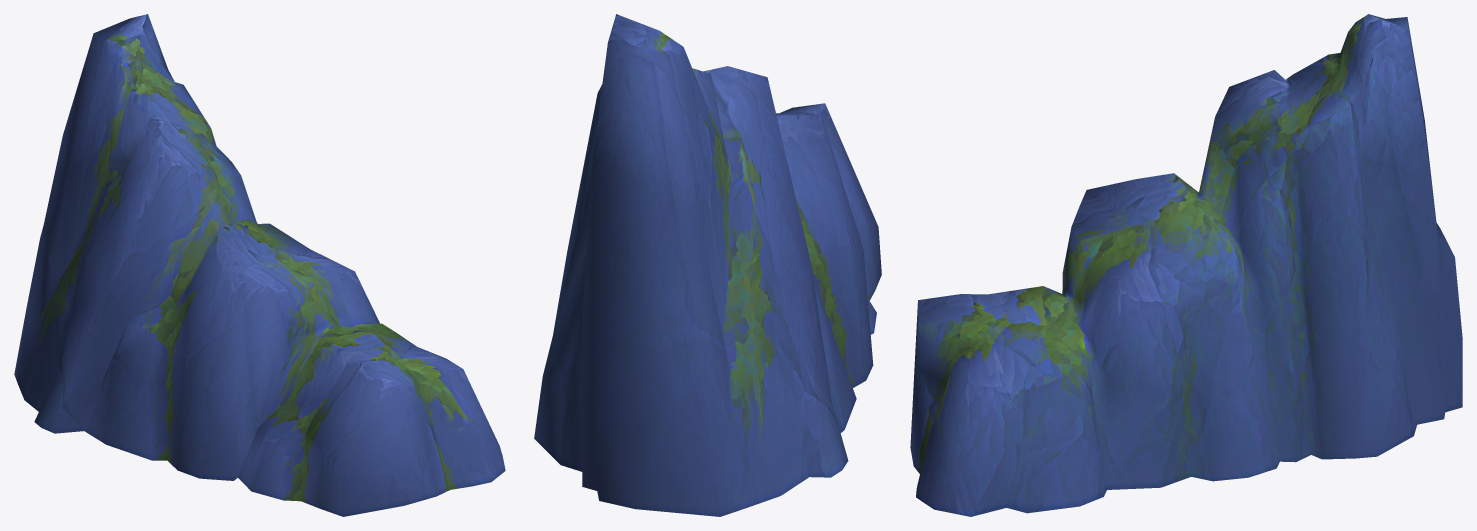
The model's file is rock_wall_a.glb.
The picture shows the model from 3 angles, left to right: view 1: azimuth 30°, elevation 25°; view 2: azimuth 150°, elevation 25°; view 3: azimuth 270°, elevation 25°; orthographic projection. The views are drawn at different scales.
Parts seen in each view (by area): view 1: tripo_node_dbaaecc9-710d-4143-9c2d-17c90e7c155b; view 2: tripo_node_dbaaecc9-710d-4143-9c2d-17c90e7c155b; view 3: tripo_node_dbaaecc9-710d-4143-9c2d-17c90e7c155b.
Part boxes in pixels (box(x1,y1,x2,y2)): tripo_node_dbaaecc9-710d-4143-9c2d-17c90e7c155b: box(14, 14, 505, 516); tripo_node_dbaaecc9-710d-4143-9c2d-17c90e7c155b: box(534, 14, 881, 516); tripo_node_dbaaecc9-710d-4143-9c2d-17c90e7c155b: box(910, 14, 1462, 516).
Size of the model in its own units: 0.752 by 0.7988 by 0.998.
1 material, 1 textured.
